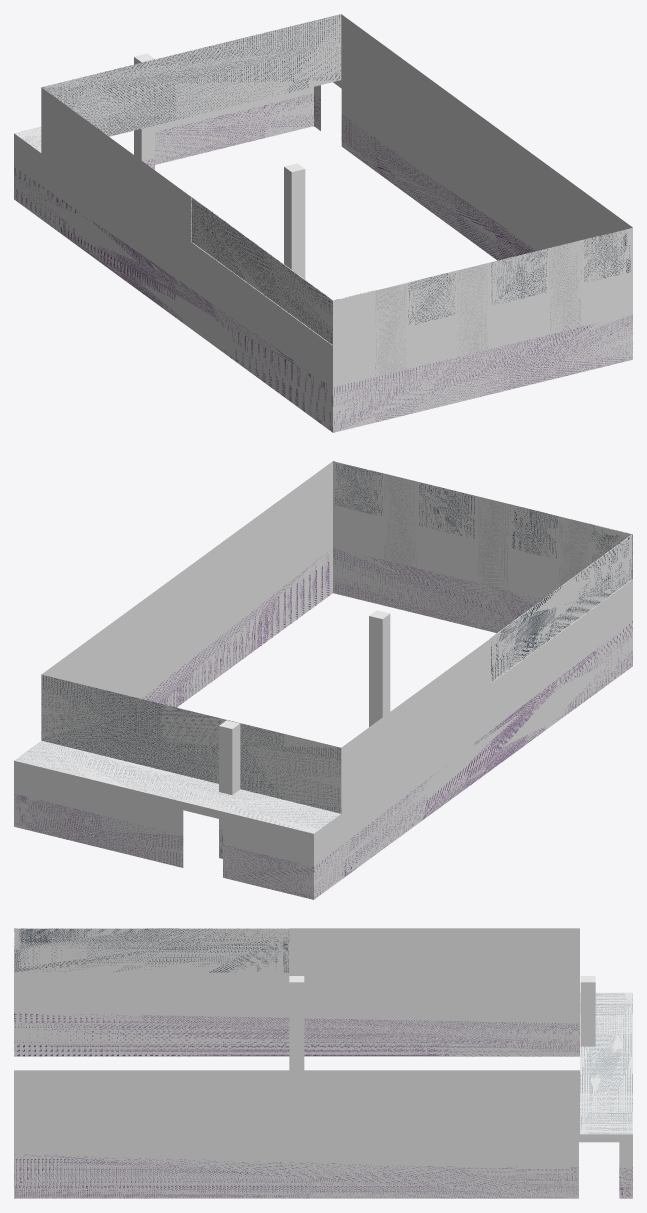
The model's file is Cafe.dae.
The picture shows the model from 3 angles, top to bottom: view 1: azimuth 30°, elevation 25°; view 2: azimuth 150°, elevation 25°; view 3: azimuth 270°, elevation 25°; orthographic projection. The views are drawn at different scales.
Visible parts, largest first — view 1: SketchUp (×13), Piller, Piller_1; view 2: SketchUp (×14), Piller, Piller_1; view 3: SketchUp (×5), Piller, Piller_1.
Boxes of the visible parts, x1,y1,x2,y2 form: SketchUp (×13): (14,14,632,432); Piller: (284,163,305,279); Piller_1: (134,53,154,161); SketchUp (×14): (14,461,632,899); Piller: (369,610,390,726); Piller_1: (219,720,240,825); SketchUp (×5): (14,928,632,1198); Piller: (289,976,304,1070); Piller_1: (580,976,595,1046).
Size of the model in its own units: 456 by 840 by 192.
Materials: 6 (2 with a texture image).
